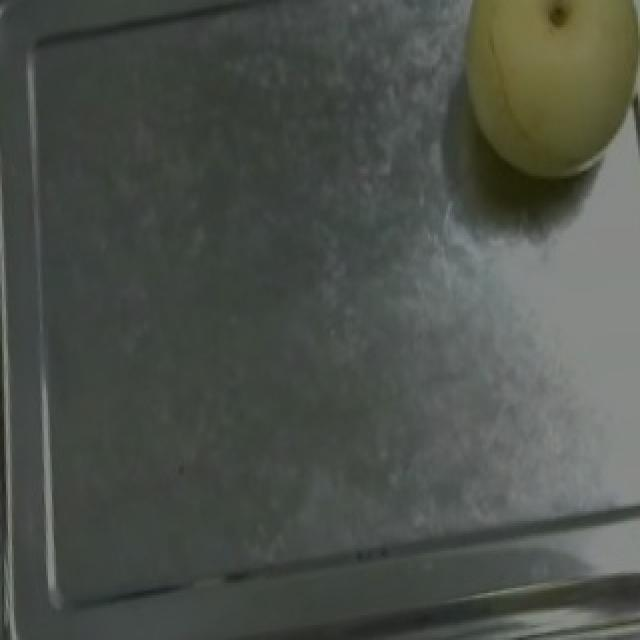Fruit: (422, 0, 640, 208)
